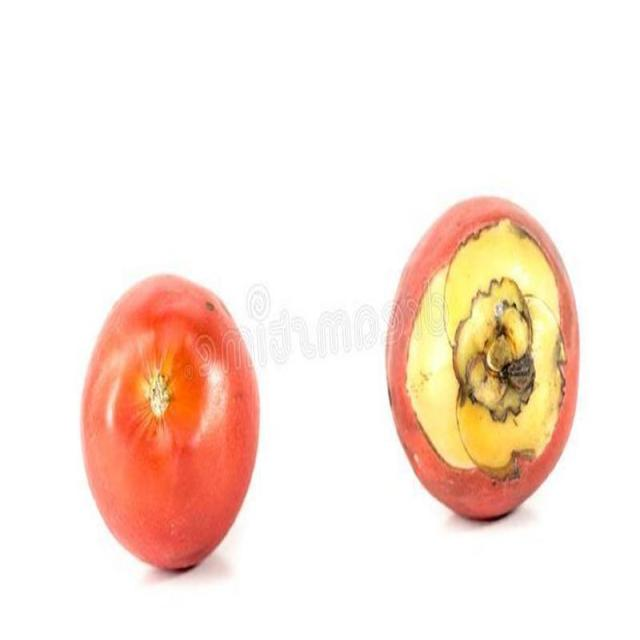good: (385, 197, 582, 524), (79, 275, 262, 575)
